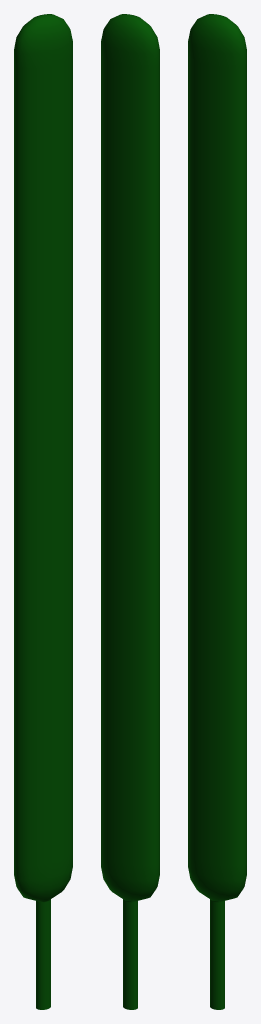
File: ThermoMeter.fbx
3 renders of one model, left to right at view 1: azimuth 30°, elevation 25°; view 2: azimuth 150°, elevation 25°; view 3: azimuth 330°, elevation 25°, orthographic.
Visible parts, largest first — view 1: Thermometer; view 2: Thermometer; view 3: Thermometer.
Part boxes in pixels (x1=…): Thermometer: x1=14, y1=14, x2=72, y2=1009; Thermometer: x1=101, y1=14, x2=159, y2=1009; Thermometer: x1=188, y1=14, x2=246, y2=1009.
Size of the model in its own units: 28.02 by 477 by 14.44.
